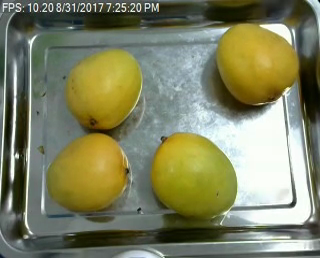Mango: (146, 132, 238, 220), (212, 22, 302, 103), (64, 46, 145, 132), (42, 132, 129, 212)
